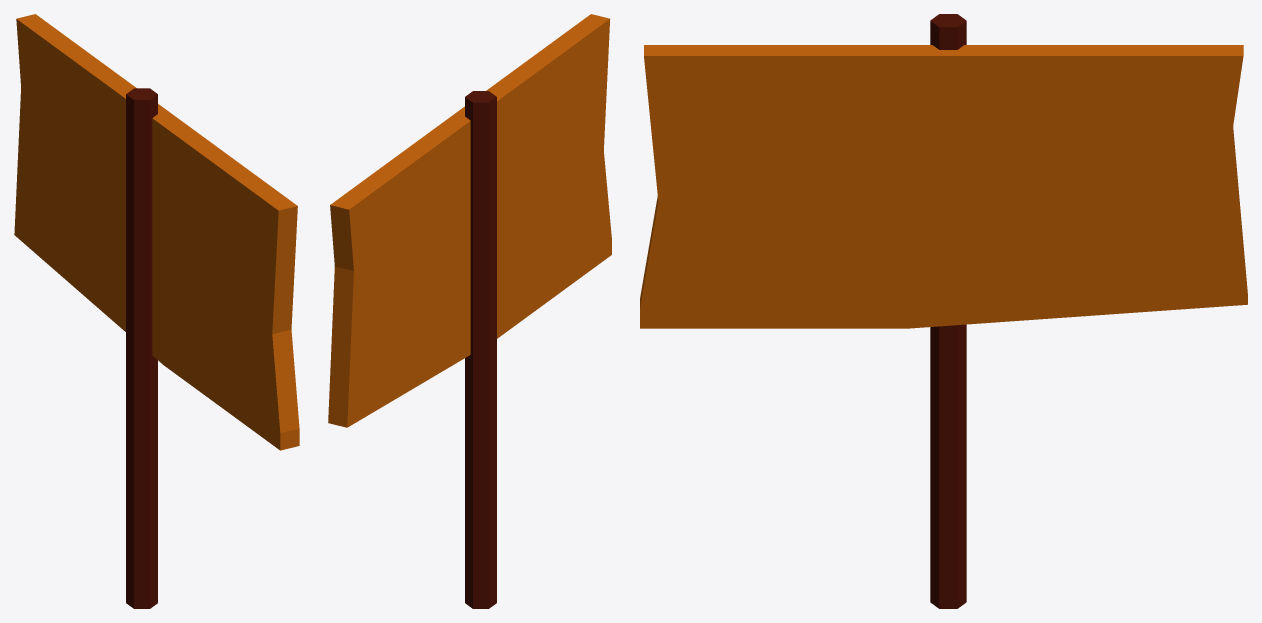
The model's file is Note.obj.
3 views of the same model, side by side, from view 1: azimuth 30°, elevation 25°; view 2: azimuth 150°, elevation 25°; view 3: azimuth 270°, elevation 25° (orthographic). The views are drawn at different scales.
Parts seen in each view (by area): view 1: 立方体, 柱体; view 2: 立方体, 柱体; view 3: 立方体, 柱体.
Part boxes in pixels (bbox=[...]): 立方体: bbox=[14, 14, 299, 450]; 柱体: bbox=[126, 88, 157, 608]; 立方体: bbox=[328, 14, 611, 427]; 柱体: bbox=[465, 91, 496, 608]; 立方体: bbox=[640, 45, 1247, 328]; 柱体: bbox=[930, 14, 966, 608].
Size of the model in its own units: 0.1539 by 2.17 by 2.05.
